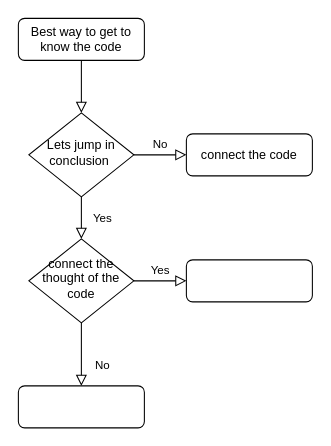
The diagram is 331 pixels wide and 446 high, and some of its shapes have lost their labels. Here are the shapes that lost their labels. From the top down, the centre of each, then its label:
the point at 248,280: never give up
the point at 80,406: assemble the code and run it
